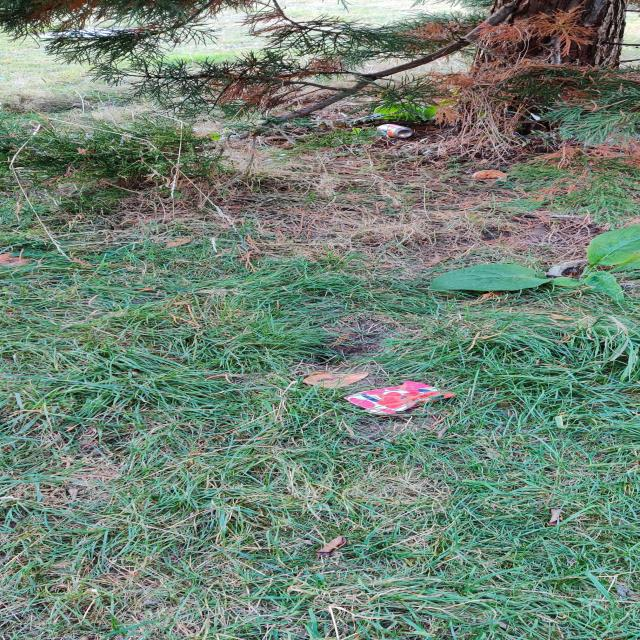litter: (343, 381, 457, 414), (371, 122, 424, 142)
